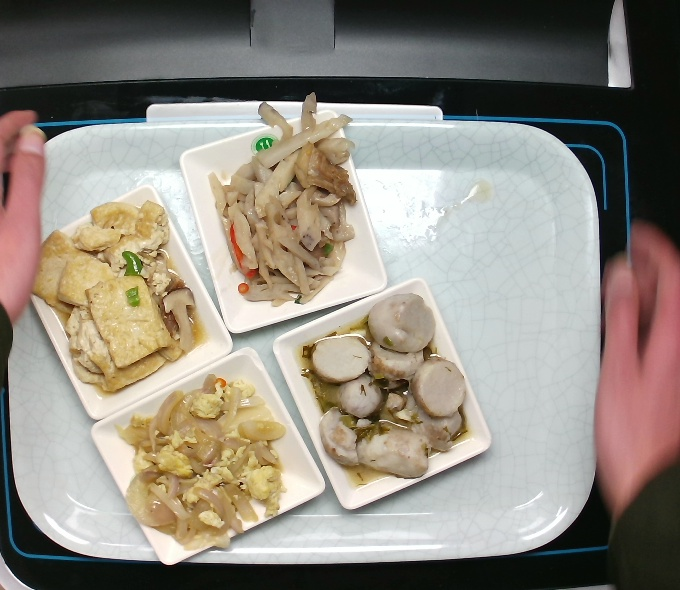wcq-JiaChangDouFu: (22, 198, 212, 400)
wcq-QingChaoOuPian: (203, 89, 359, 312)
wcq-YangCongChaoDan: (110, 371, 288, 552)
wcq-YangYu: (296, 290, 472, 492)
